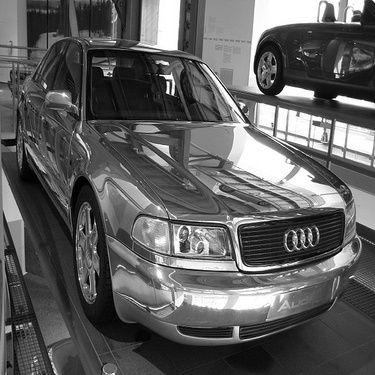car: (6, 17, 350, 334), (246, 2, 375, 102)
